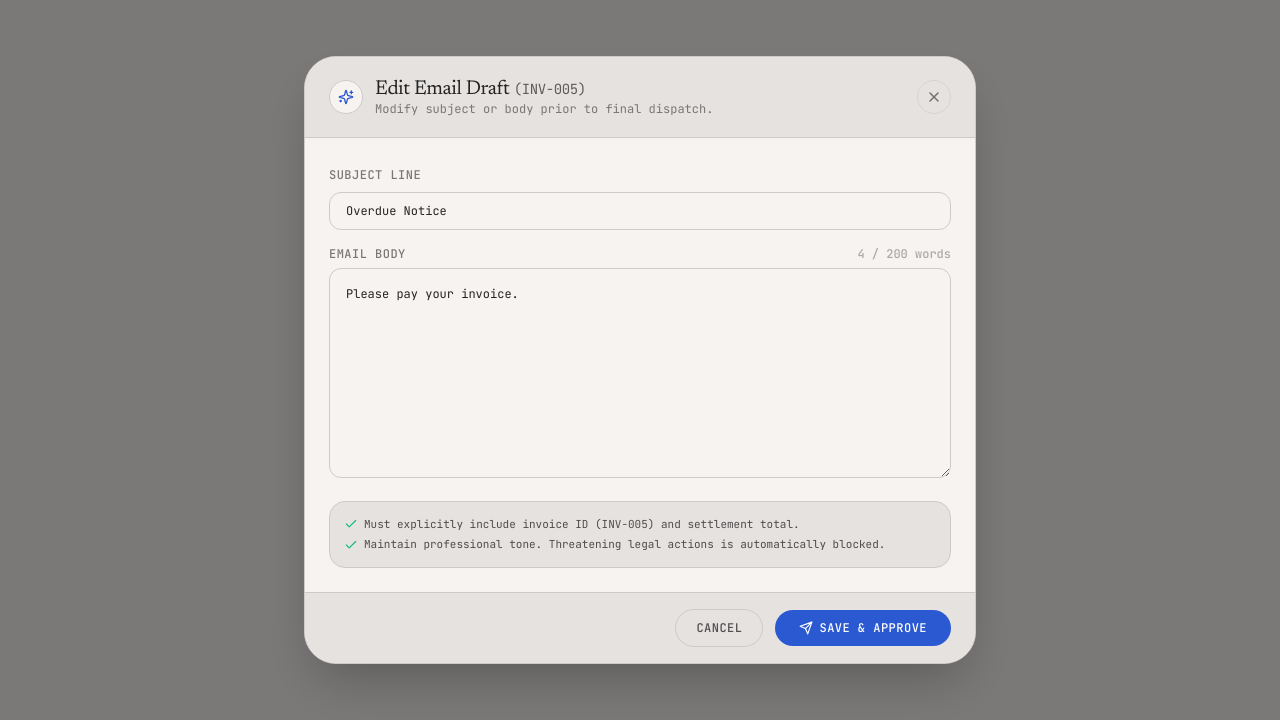
Test: FRONT-03: Decisions Components & Page › EditDraftModal Component › enforces safety rule requiring presence of invoice ID in edited body
The width and height of the screenshot is (1280, 720).
What coordinates should you click on to do the following:
click the button with test id "edit-draft-save-button"
I would click on:
 (863, 628)
Its box is [776,610,951,646].
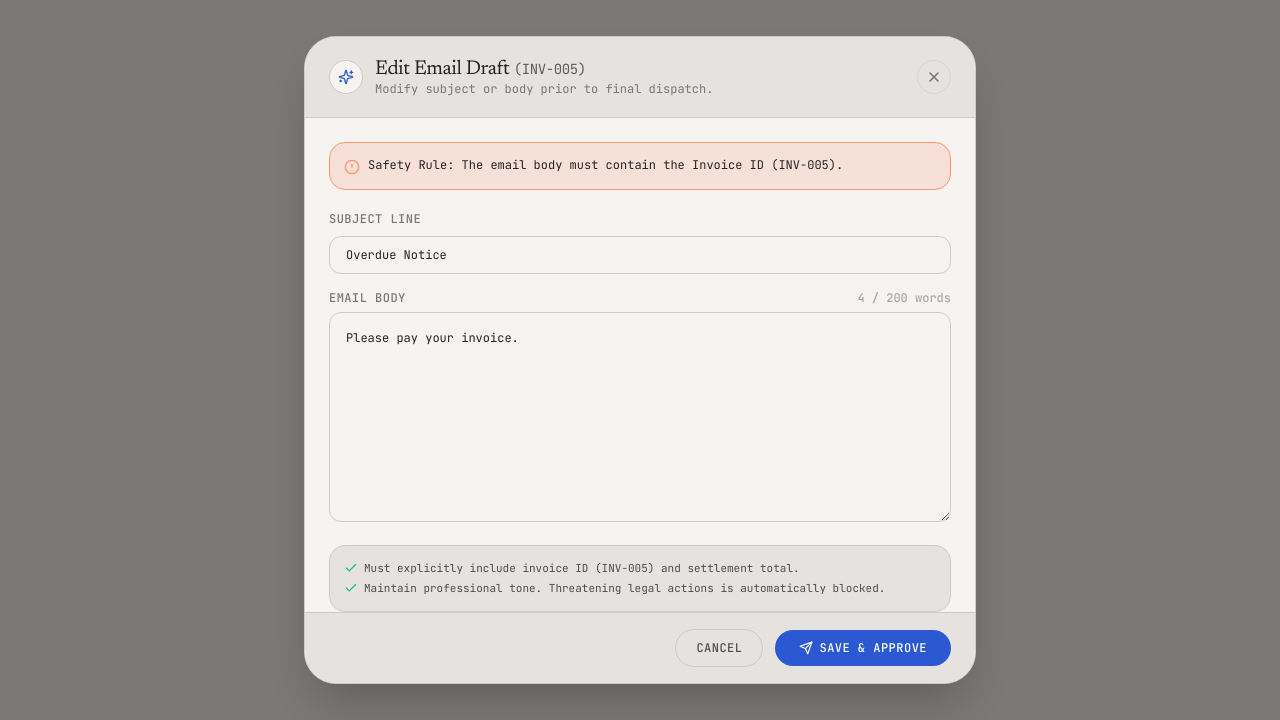
Now the element with test id "edit-modal-error" shows "Safety Rule: The email body must contain the Invoice ID (INV-005)", box [368,157,843,173]
